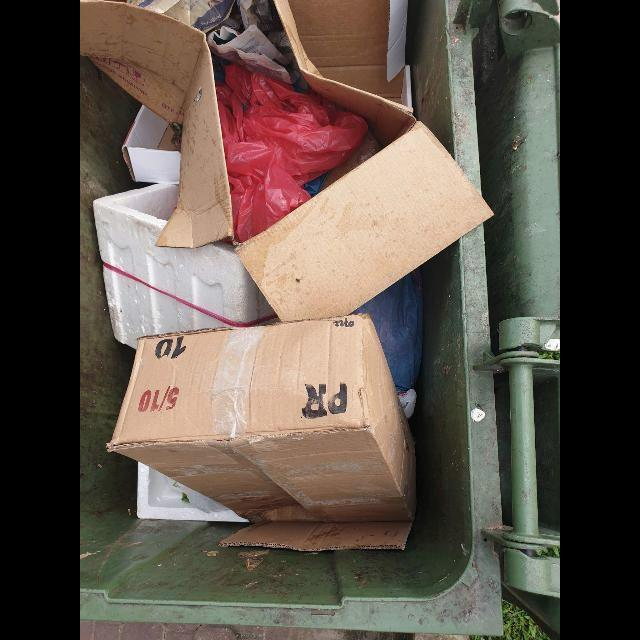cardboard: (80, 0, 494, 324), (106, 313, 417, 553), (122, 105, 181, 185)
paper: (124, 0, 301, 85)
plastic_bag: (216, 64, 368, 244)
